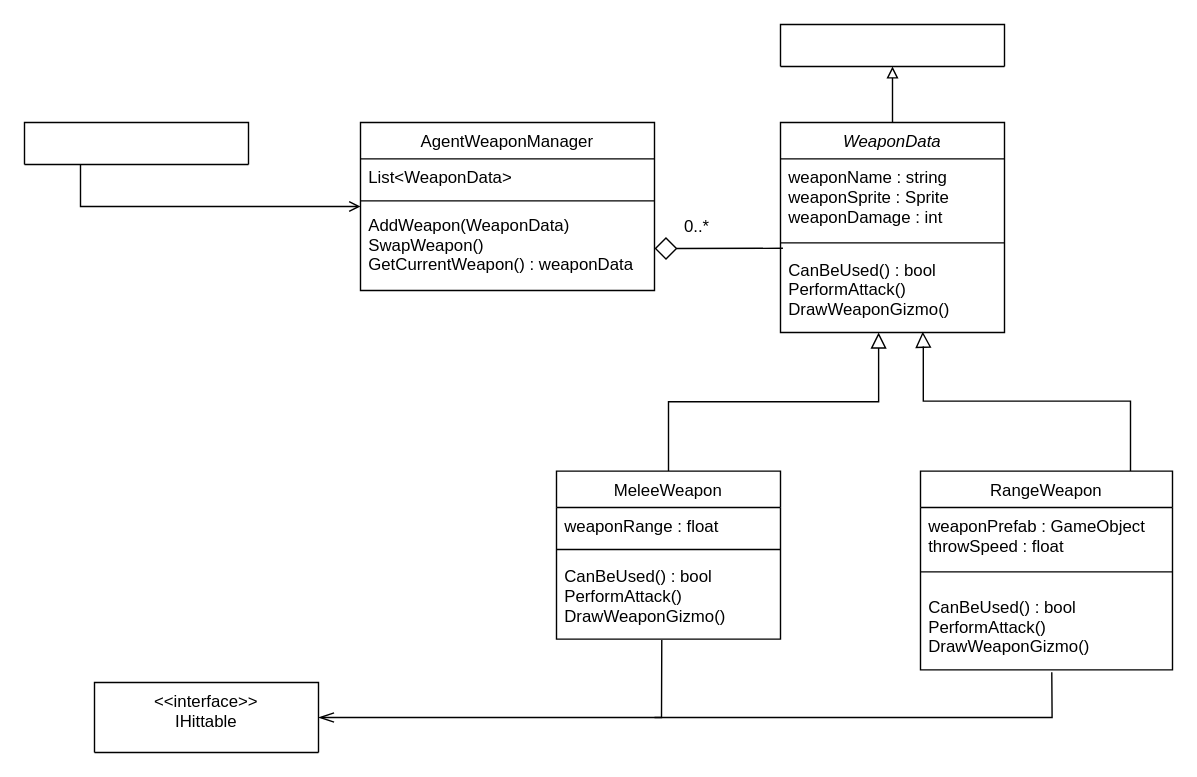
The diagram is 1197 pixels wide and 777 high, and some of its shapes have lost their labels. The centre of each missing label's shape, as x and y in pixels:
Agent: pixel 135 142
ScriptableObject: pixel 891 44
